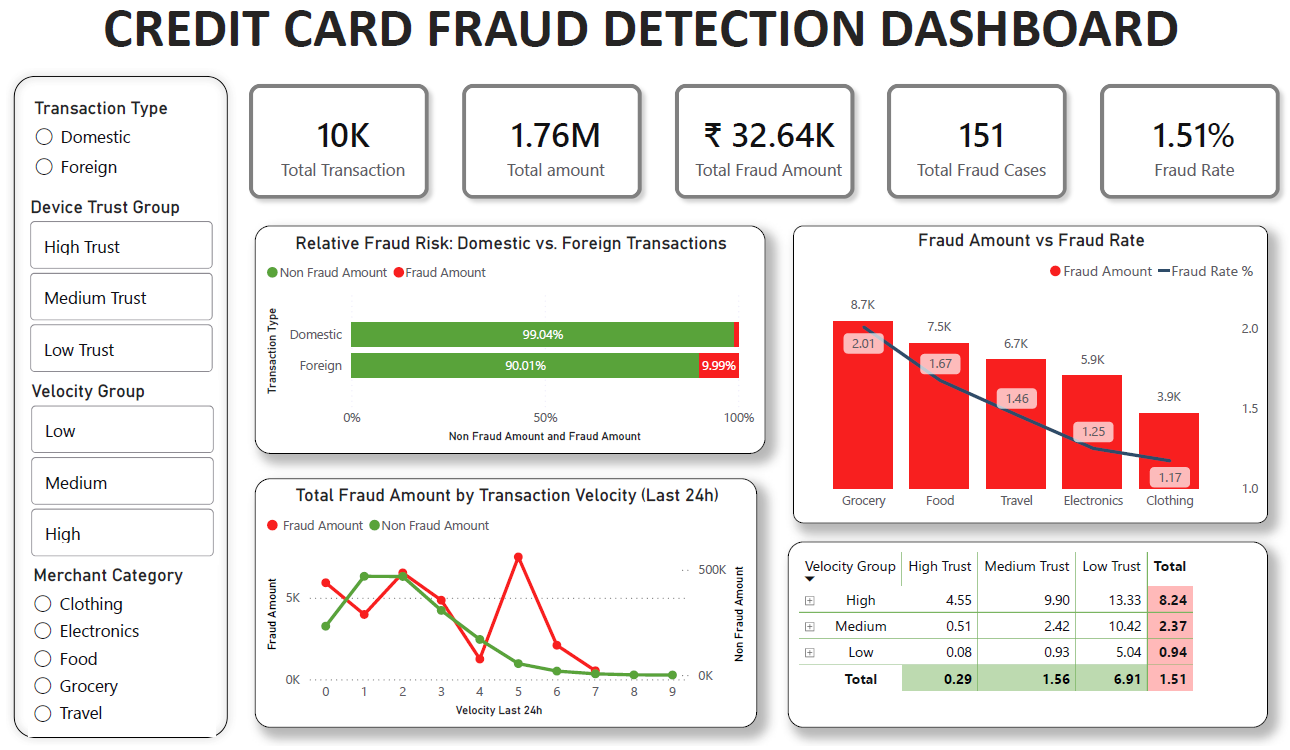

Layout of this report page (visuals, bound fields, positions):
{"tool":"powerbi","page":{"name":"Page 1","canvas":[1280,720],"ordinal":0},"visuals":[{"type":"textbox","box":[0,0,1280,84.5],"z":1000},{"type":"cardVisual","fields":{"Data":["CountNonNull(public fraud.transaction_id)","public fraud.Total Fraud Cases","public fraud.Total Fraud Amount","public fraud.Fraud Rate percentage"]},"box":[234,58.2,1028.5,178.4],"z":1500},{"type":"lineClusteredColumnComboChart","title":"Fraud Amount vs Fraud Rate","fields":{"Y2":["public fraud.Fraud Rate %"],"Y":["public fraud.Total Fraud Amount"],"Category":["public fraud.merchant_category"]},"box":[780.2,226.2,451.2,282.5],"z":2000},{"type":"lineChart","title":"Total Fraud Amount by Transaction Velocity (Last 24h)","fields":{"Category":["public fraud.velocity_last_24h"],"Y":["public fraud.Total Fraud Amount"],"Y2":["public fraud.Non Fraud Amount"]},"box":[269,465.9,476.9,237.2],"z":3000},{"type":"pivotTable","fields":{"Rows":["public fraud.Velocity Group","public fraud.Device Trust Group"],"Values":["public fraud.Fraud Rate %"],"Columns":["public fraud.Device Trust Group"]},"box":[775.3,525.8,456.1,177.3],"z":4000},{"type":"hundredPercentStackedBarChart","title":"Relative Fraud Risk: Domestic vs. Foreign Transactions","fields":{"Category":["public fraud.Transaction Type"],"Y":["public fraud.Non Fraud Amount","public fraud.Total Fraud Amount"]},"box":[269.5,226.4,484.5,216.3],"z":5000},{"type":"shape","box":[33.4,57.6,218.4,662.9],"z":5500},{"type":"advancedSlicerVisual","fields":{"Values":["public fraud.Device Trust Group"]},"box":[50.6,179.6,183.4,175.8],"z":6000},{"type":"listSlicer","fields":{"Values":["public fraud.merchant_category"]},"box":[54.4,530.1,177.1,180.9],"z":7000},{"type":"listSlicer","fields":{"Values":["public fraud.Transaction Type"]},"box":[56.9,84.8,177.1,86],"z":8000},{"type":"advancedSlicerVisual","fields":{"Values":["public fraud.Velocity Group"]},"box":[50.6,355.5,183.4,174.6],"z":10000}]}

Visuals, with their boxes in screenshot pixels (x1, y1, x2, y2):
textbox: [left=0, top=0, right=1289, bottom=40]
cardVisual - CountNonNull(public fraud.transaction_id) x public fraud.Total Fraud Cases: [left=206, top=12, right=1289, bottom=202]
"Fraud Amount vs Fraud Rate" lineClusteredColumnComboChart: [left=790, top=191, right=1272, bottom=493]
"Total Fraud Amount by Transaction Velocity (Last 24h)" lineChart: [left=244, top=447, right=753, bottom=701]
pivotTable - public fraud.Velocity Group x public fraud.Device Trust Group: [left=785, top=511, right=1272, bottom=701]
"Relative Fraud Risk: Domestic vs. Foreign Transactions" hundredPercentStackedBarChart: [left=244, top=191, right=762, bottom=423]
shape: [left=0, top=11, right=225, bottom=719]
advancedSlicerVisual - public fraud.Device Trust Group: [left=10, top=141, right=206, bottom=329]
listSlicer - public fraud.merchant_category: [left=14, top=516, right=204, bottom=709]
listSlicer - public fraud.Transaction Type: [left=17, top=40, right=206, bottom=132]
advancedSlicerVisual - public fraud.Velocity Group: [left=10, top=329, right=206, bottom=516]
